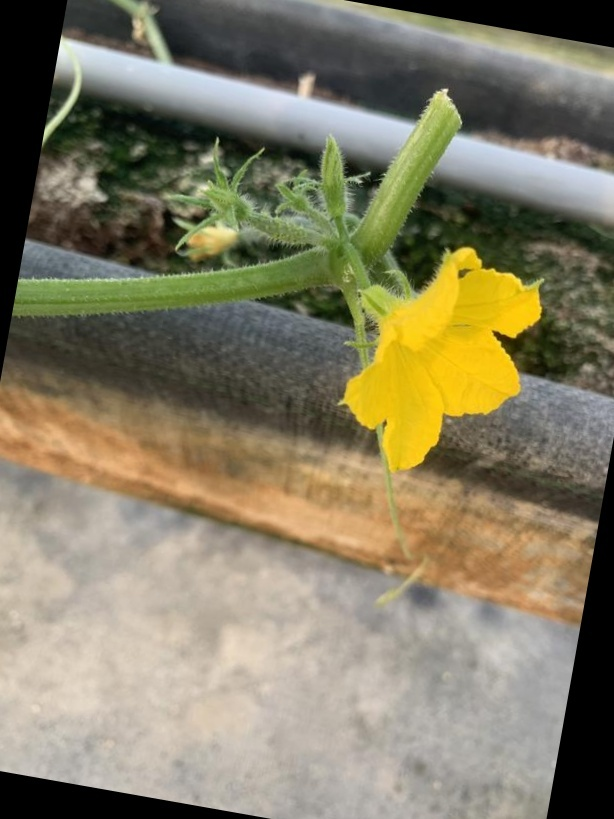flowering: (315, 242, 556, 477)
